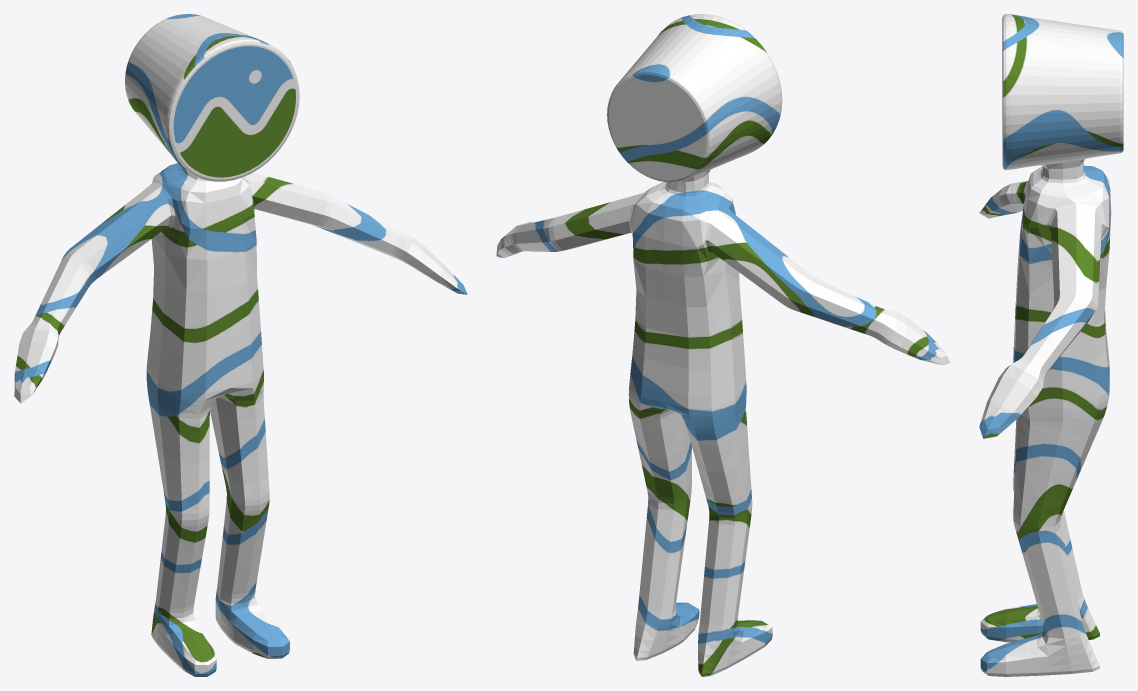
Rendered from StudentSitting.obj.
The picture shows the model from 3 angles, left to right: view 1: azimuth 30°, elevation 25°; view 2: azimuth 150°, elevation 25°; view 3: azimuth 270°, elevation 25°; orthographic projection. The views are drawn at different scales.
Parts seen in each view (by area): view 1: Cesium_Man; view 2: Cesium_Man; view 3: Cesium_Man.
Part boxes in pixels (x1,y1,x2,y2): Cesium_Man: (14,14,467,676); Cesium_Man: (496,14,950,676); Cesium_Man: (979,14,1123,676).
Size of the model in its own units: 1.14 by 1.51 by 0.312.
Materials: 1 (1 with a texture image).
